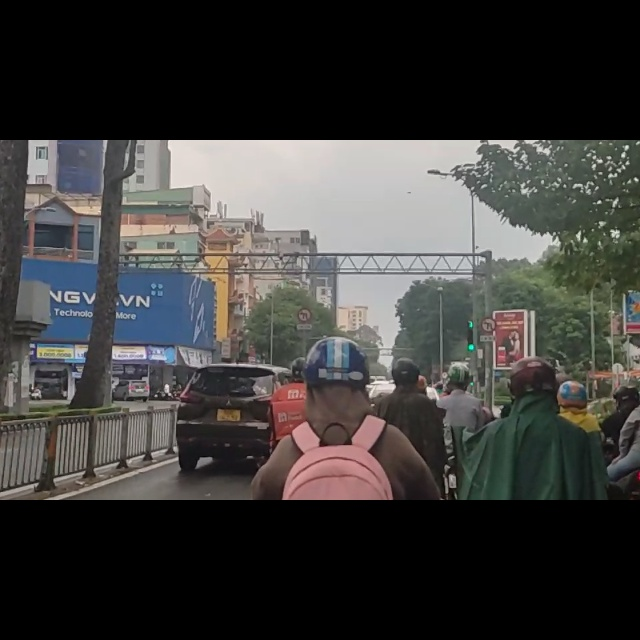bien_cam: (297, 297, 314, 328), (481, 314, 496, 343)
